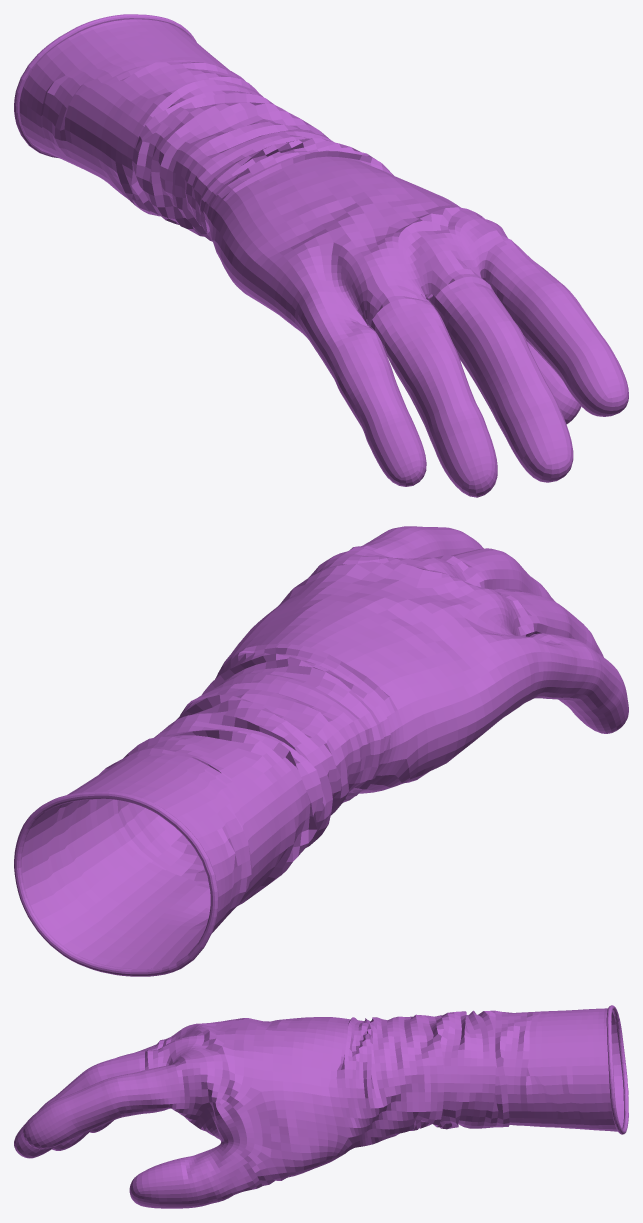
The picture shows the model from 3 angles, top to bottom: view 1: azimuth 30°, elevation 25°; view 2: azimuth 150°, elevation 25°; view 3: azimuth 270°, elevation 25°; orthographic projection. The views are drawn at different scales.
Parts seen in each view (by area): view 1: Glove_rubber_low; view 2: Glove_rubber_low; view 3: Glove_rubber_low.
Part boxes in pixels (x1,y1,x2,y2): Glove_rubber_low: (14, 14, 628, 497); Glove_rubber_low: (14, 526, 628, 976); Glove_rubber_low: (14, 1005, 628, 1208).
Size of the model in its own units: 8.64 by 6.68 by 25.09.
